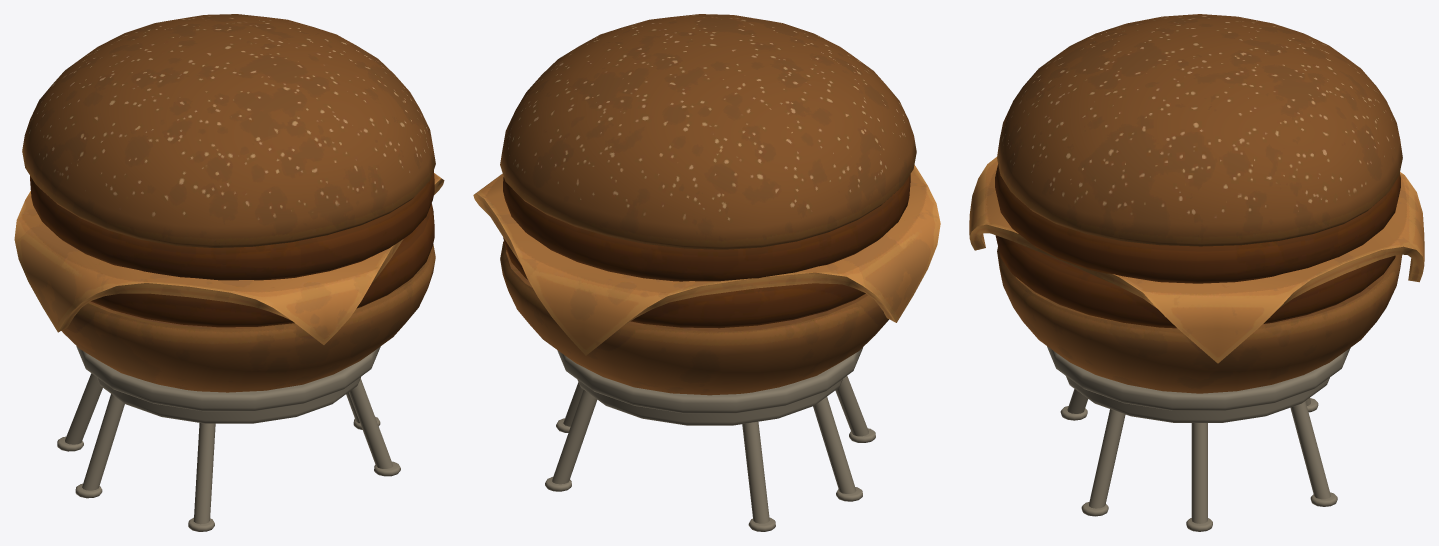
Rendered from SM_burger.glb.
3 views of the same model, side by side, from view 1: azimuth 30°, elevation 25°; view 2: azimuth 150°, elevation 25°; view 3: azimuth 270°, elevation 25° (orthographic).
Parts seen in each view (by area): view 1: SM_burger; view 2: SM_burger; view 3: SM_burger.
Boxes of the visible parts, x1,y1,x2,y2 form: SM_burger: [14, 14, 444, 531]; SM_burger: [473, 14, 940, 531]; SM_burger: [969, 14, 1424, 531].
Bounding box in the file's own units: 3.73 × 3.81 × 3.8.
Materials: 2 (1 with a texture image).
